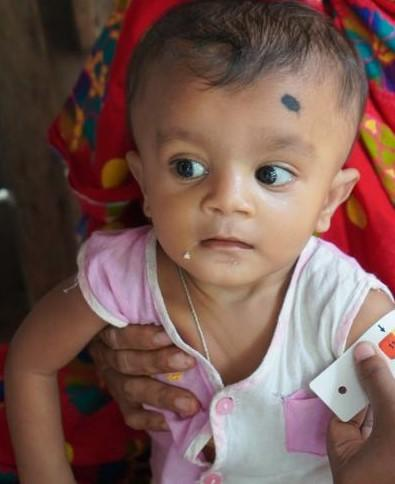Healthy: (132, 36, 364, 297)
